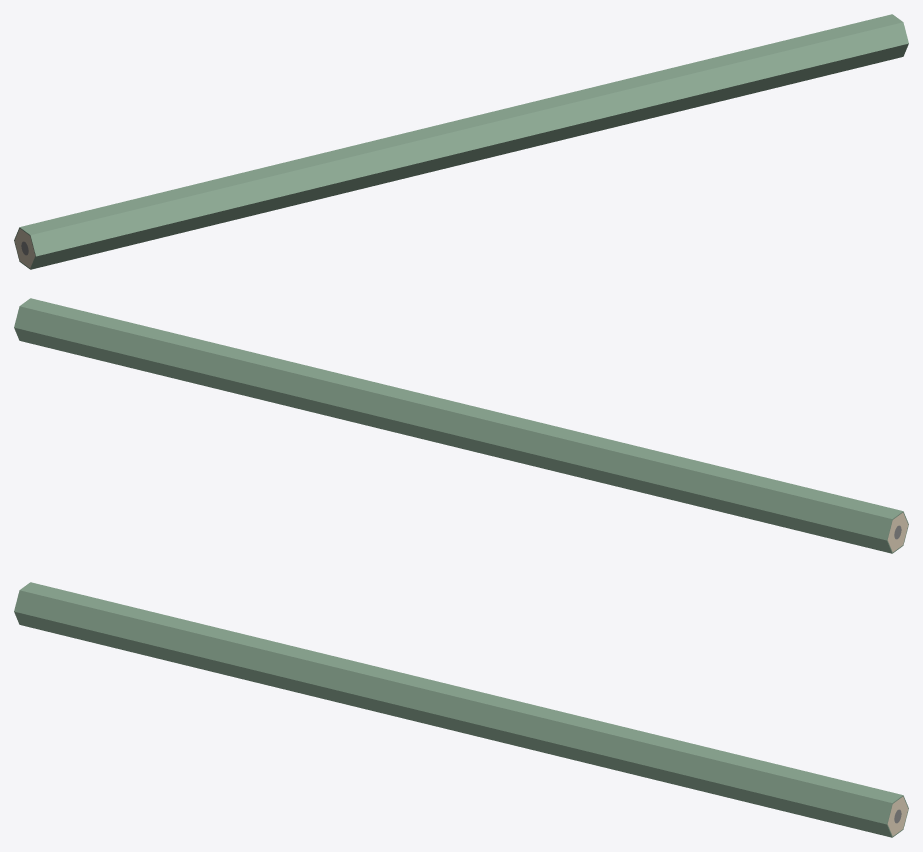
The model's file is 176_鉛筆削る前.glb.
3 views of the same model, one above another, from view 1: azimuth 30°, elevation 25°; view 2: azimuth 150°, elevation 25°; view 3: azimuth 330°, elevation 25° (orthographic).
Parts seen in each view (by area): view 1: 176_鉛筆; view 2: 176_鉛筆; view 3: 176_鉛筆.
Boxes of the visible parts, bbox=[...] form: 176_鉛筆: bbox=[14, 14, 908, 269]; 176_鉛筆: bbox=[14, 298, 908, 553]; 176_鉛筆: bbox=[14, 582, 908, 837].
Bounding box in the file's own units: 0.176 × 0.00667 × 0.0077.
